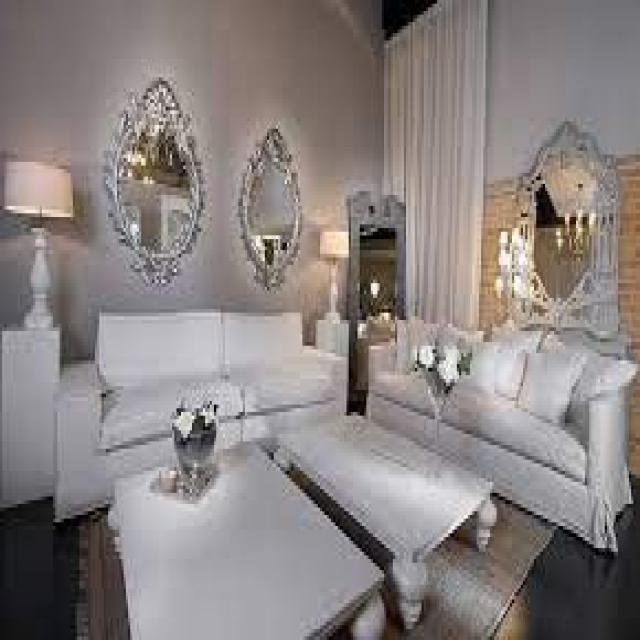Lamp: (0, 151, 71, 320), (318, 226, 348, 313)
Sofa: (369, 306, 628, 525), (61, 313, 349, 447)
Table: (111, 470, 366, 640), (290, 411, 492, 596)
